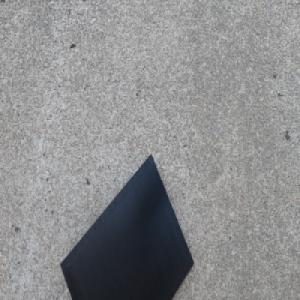PlasticPart: (58, 153, 195, 300)
